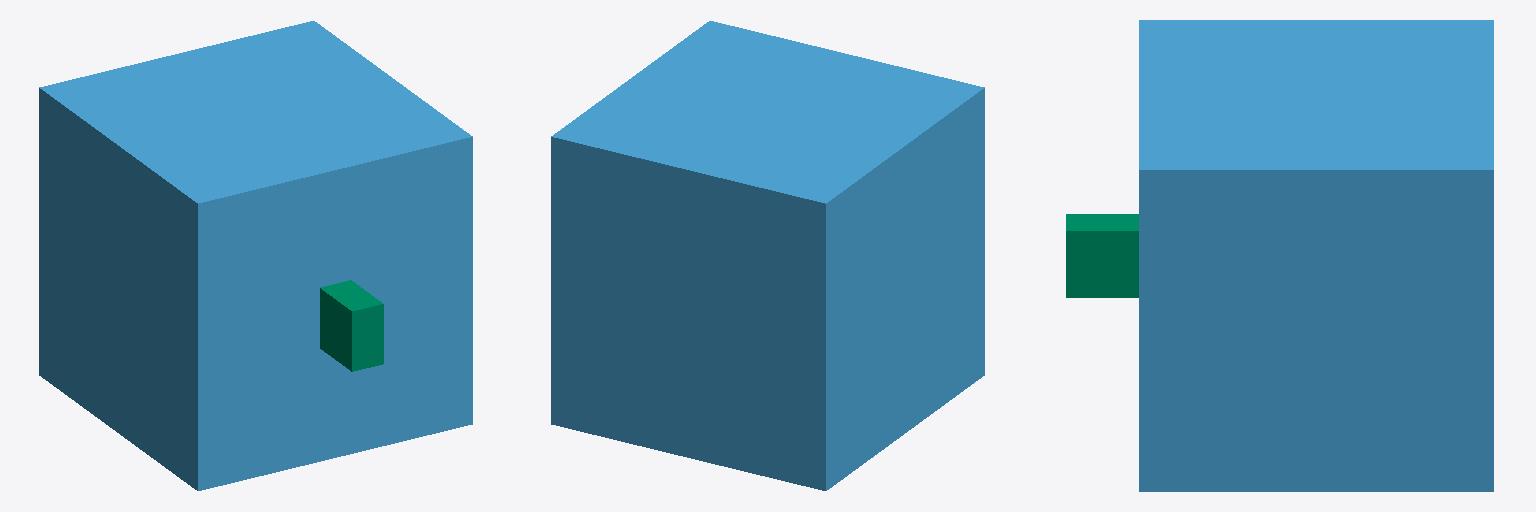
robot.urdf — camera:
<?xml version="1.0"?>
<robot name="camera" xmlns:xacro="http://ros.org/wiki/xacro">

    <link name="world" />

    <link name="cube">
        <inertial>
            <mass value="0.1" />
            <inertia ixx="0.01" ixy="0.0" ixz="0.0" iyy="0.01" iyz="0.0" izz="0.01" />
        </inertial>
        <visual>
            <geometry>
                <box size="0.2 0.2 0.2" />
            </geometry>
            <origin xyz="0 0 0" rpy="0 0 0" />
        </visual>
        <collision>
            <geometry>
                <box size="0.2 0.2 0.2" />
            </geometry>
            <origin xyz="0 0 0" rpy="0 0 0" />
        </collision>
    </link>

    <joint name="world_to_cube" type="fixed">
        <parent link="world" />
        <child link="cube" />
        <origin xyz="0 0 0" rpy="0 0 0" />
    </joint>


    <link name="camera_bottom_screw_frame">
        <visual>
            <geometry>
                <box size="0.023 0.042 0.042" />
            </geometry>
        </visual>
    </link>

    <joint name="camera_link_to_cube" type="fixed">
        <parent link="cube" />
        <child link="camera_bottom_screw_frame" />
        <origin xyz="0 -0.12 0" rpy="0 0 0" />
    </joint>

    <link name="camera_link"></link>

    <joint name="camera_link_to_frame" type="fixed">
        <parent link="camera_bottom_screw_frame"></parent>
        <child link="camera_link" />
        <origin xyz="0 0 0" rpy="0 0 -1.57" />
    </joint>


    <gazebo reference="camera_link">
        <sensor name="rgbd_camera" type="rgbd_camera">
            <camera>
                <horizontal_fov>1.047</horizontal_fov>
                <image>
                    <width>840</width>
                    <height>480</height>
                </image>
                <clip>
                    <near>0.001</near>
                    <far>100</far>
                </clip>
            </camera>
            <always_on>1</always_on>
            <update_rate>30</update_rate>
            <visualize>true</visualize>
            <topic>rgbd_camera</topic>
            <enable_metrics>true</enable_metrics>
        </sensor>
        <sensor name="imu" type="imu">
            <always_on>1</always_on>
            <update_rate>1</update_rate>
            <visualize>true</visualize>
            <topic>imu</topic>
            <enable_metrics>true</enable_metrics>
        </sensor>
    </gazebo>


</robot>

--- Render facts (derived) ---
Views: 3 orthographic renders of the robot side by side, from view 1: azimuth 30°, elevation 25°; view 2: azimuth 150°, elevation 25°; view 3: azimuth 270°, elevation 25°.
Robot: camera — 4 links, 3 joints (3 fixed); root link world; default pose: every joint at zero.
Links seen in each view (by area): view 1: cube, camera_bottom_screw_frame; view 2: cube; view 3: cube, camera_bottom_screw_frame.
Boxes of the visible links, bbox=[...] form: cube: bbox=[39, 21, 472, 490]; camera_bottom_screw_frame: bbox=[320, 280, 383, 371]; cube: bbox=[551, 21, 984, 490]; cube: bbox=[1139, 20, 1493, 491]; camera_bottom_screw_frame: bbox=[1066, 214, 1138, 297].
Size in the robot's own frame: 0.2 by 0.241 by 0.2 metres.
Geometry: primitives only (box / cylinder / sphere), no mesh files.
